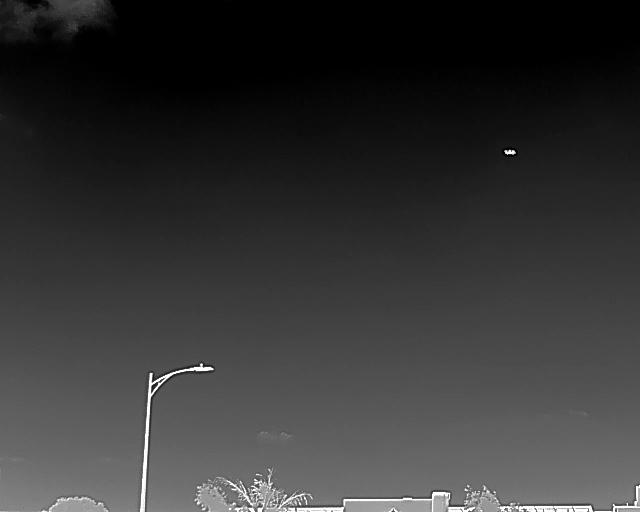fpv-drone: (502, 148, 517, 157)
